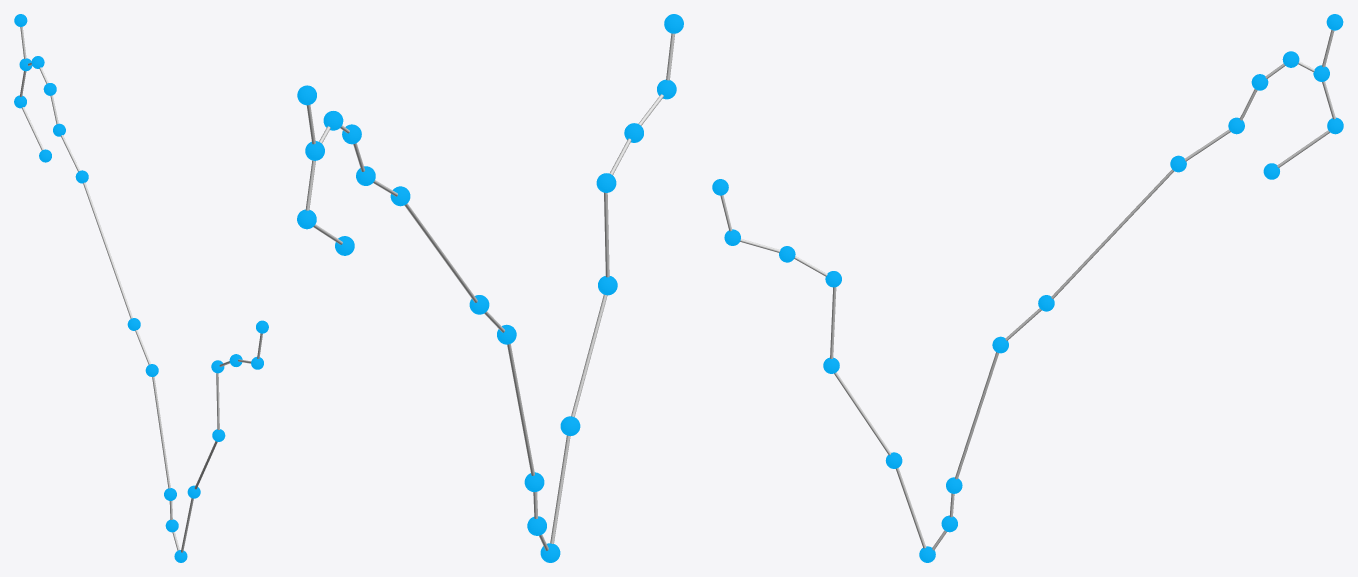
The model's file is Meen.glb.
The picture shows the model from 3 angles, left to right: view 1: azimuth 30°, elevation 25°; view 2: azimuth 150°, elevation 25°; view 3: azimuth 270°, elevation 25°; orthographic projection. The views are drawn at different scales.
Parts seen in each view (by area): view 1: Extra; view 2: Extra; view 3: Extra.
Boxes of the visible parts, <box> form: Extra: <box>14,14,268,562</box>; Extra: <box>297,14,683,562</box>; Extra: <box>712,14,1343,562</box>.
Size of the model in its own units: 0.1011 by 3.67 by 3.84.
